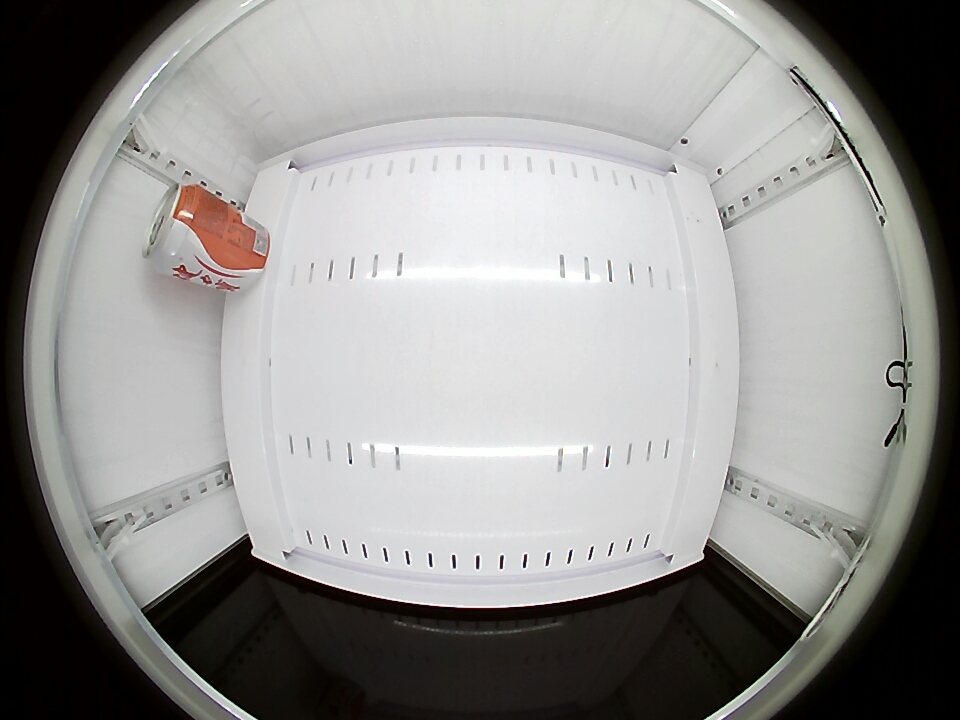jianlibao: (143, 182, 212, 278)
